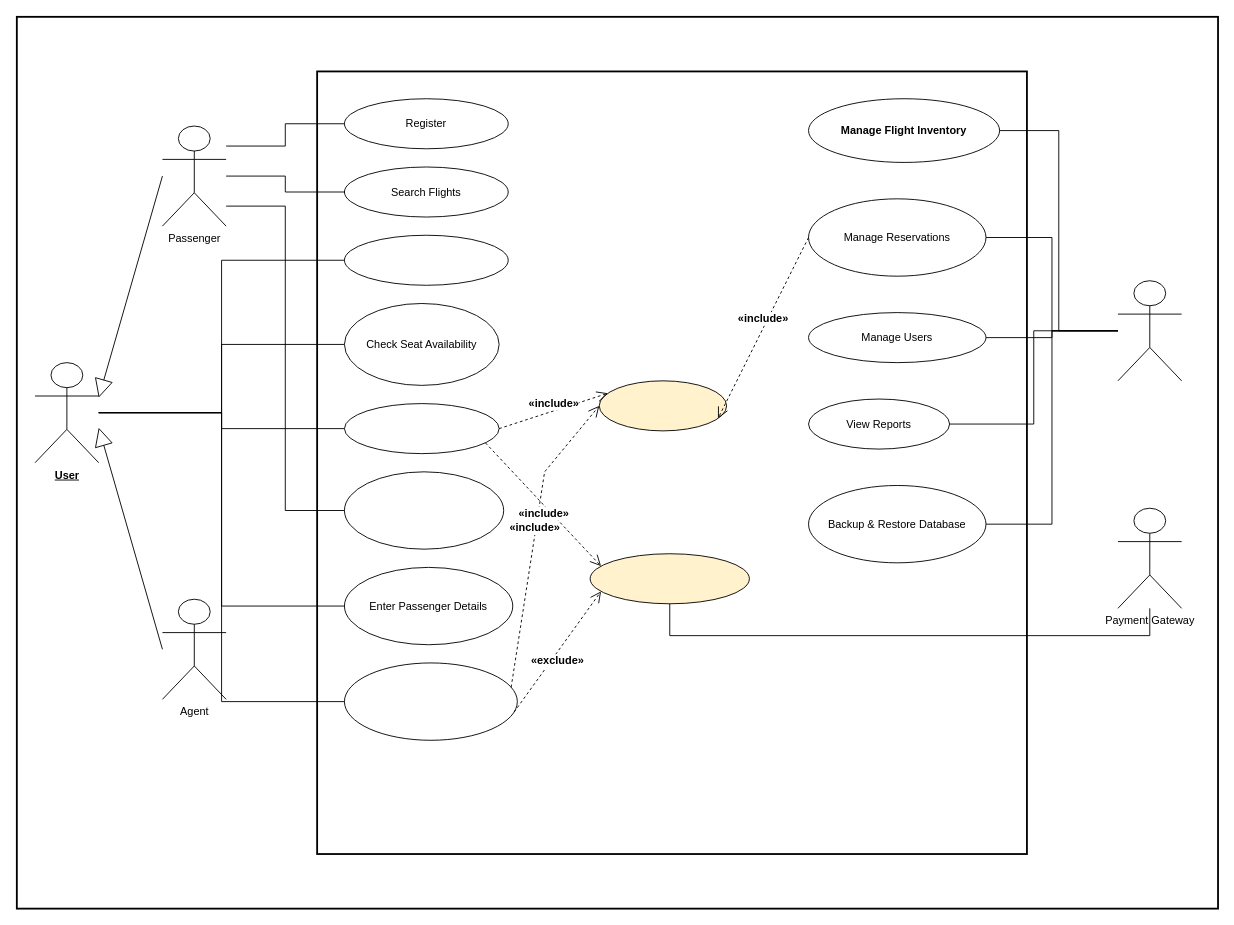
This 1234x925 diagram has some shape labels left out. Each missing label, with the centre of its shape:
Access Boarding Pass: (424,510)
Administrator: (1149,330)
Login: (662,405)
Make Payment: (669,578)
Manage / Cancel Reservation: (430,701)
Reserve Seat: (421,428)
Web Check-in: (426,259)
